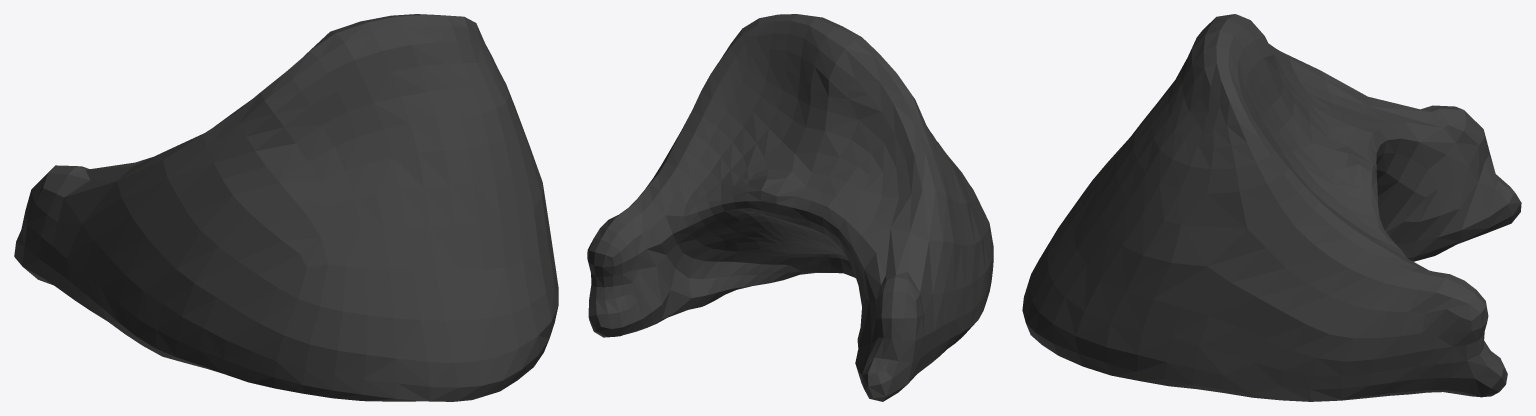
The picture shows the model from 3 angles, left to right: view 1: azimuth 30°, elevation 25°; view 2: azimuth 150°, elevation 25°; view 3: azimuth 270°, elevation 25°; orthographic projection. The views are drawn at different scales.
Visible parts, largest first — view 1: HL_P3_R; view 2: HL_P3_R; view 3: HL_P3_R.
Part boxes in pixels (x1=…): HL_P3_R: x1=14, y1=14, x2=558, y2=401; HL_P3_R: x1=587, y1=14, x2=993, y2=401; HL_P3_R: x1=1022, y1=14, x2=1521, y2=401.
Size of the model in its own units: 0.1029 by 0.0776 by 0.1127.
1 material, 1 textured.
